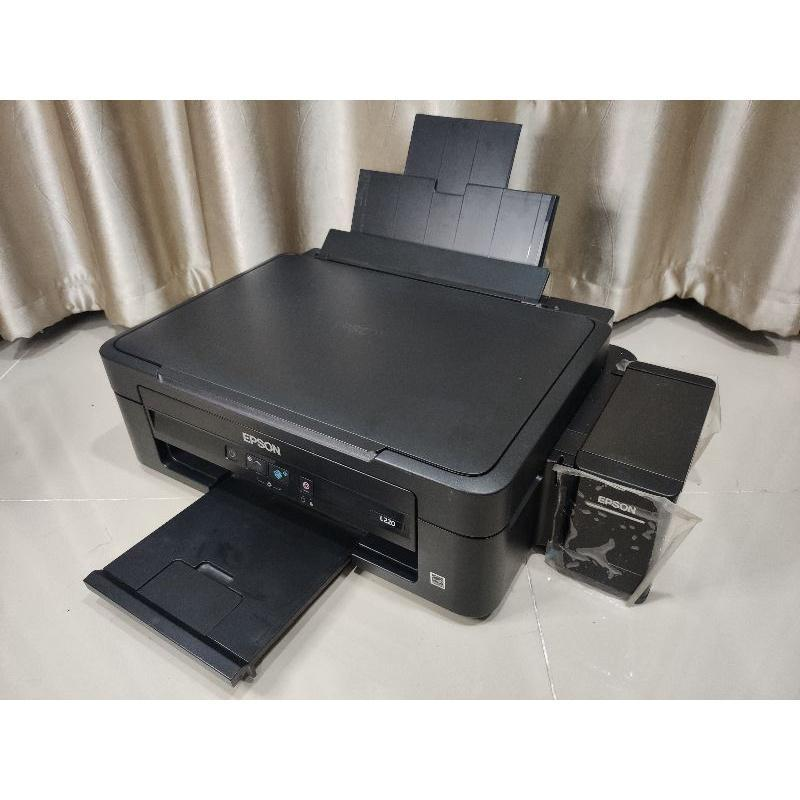Printer: (81, 112, 715, 689)
